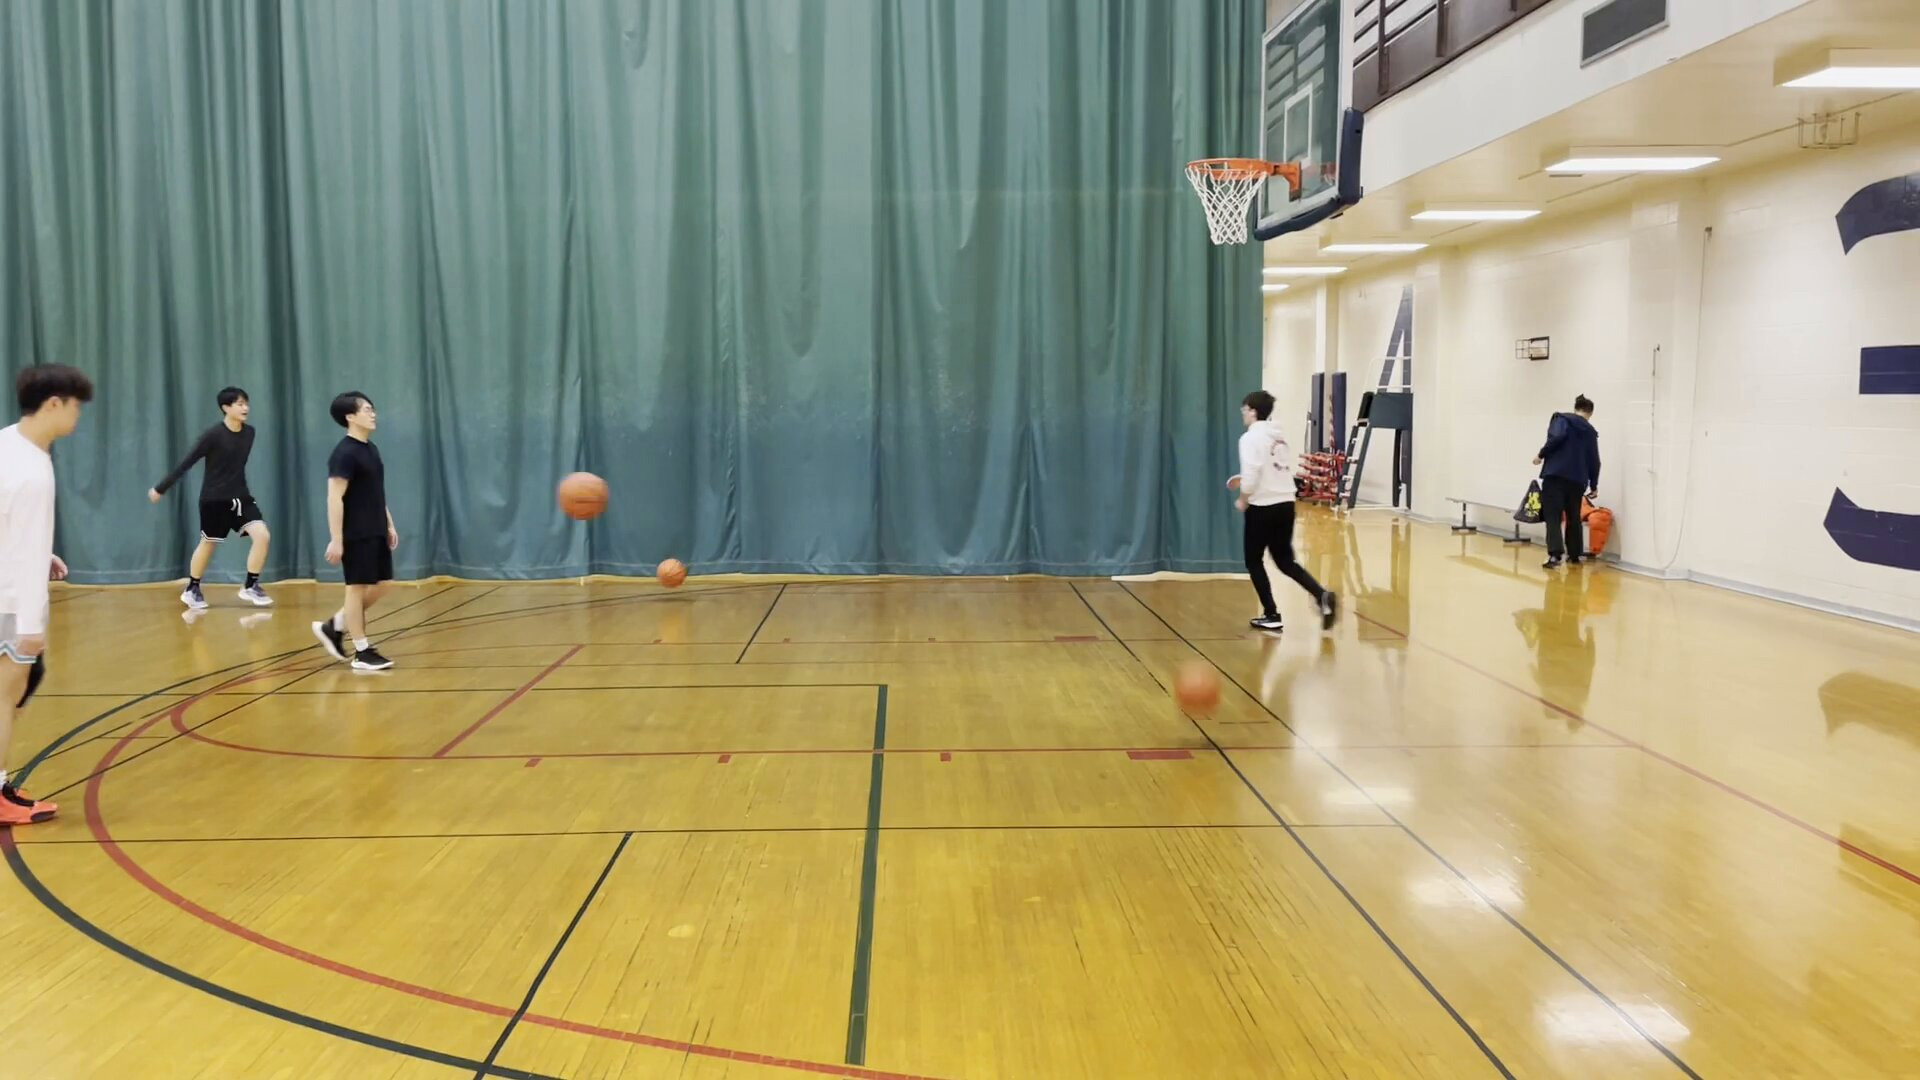ball: (551, 470, 614, 525), (1174, 655, 1222, 715), (653, 558, 687, 589)
net: (1202, 224, 1251, 249)
player: (2, 363, 98, 835), (1212, 389, 1346, 638), (307, 392, 415, 677), (148, 381, 276, 615), (1531, 388, 1603, 573)
rim: (1182, 153, 1277, 184)
